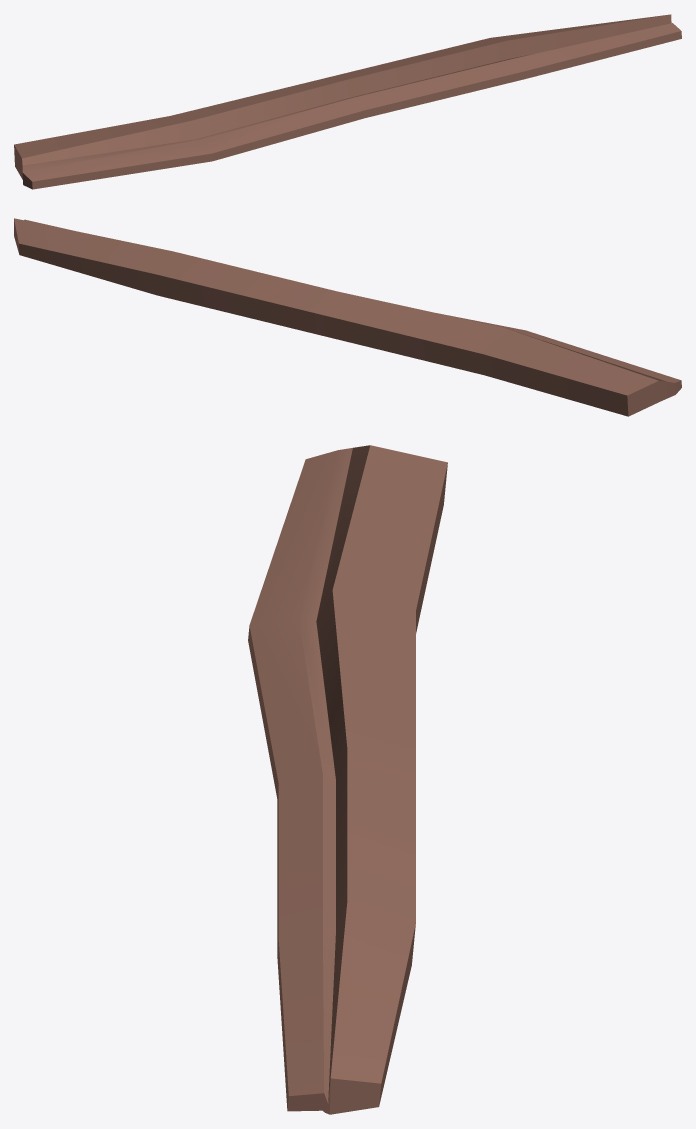
The model's file is SM_Wooden_Plank_Railing_07.fbx.
The picture shows the model from 3 angles, top to bottom: view 1: azimuth 30°, elevation 25°; view 2: azimuth 150°, elevation 25°; view 3: azimuth 270°, elevation 25°; orthographic projection. The views are drawn at different scales.
Visible parts, largest first — view 1: Wooden_Plank_Railing_07; view 2: Wooden_Plank_Railing_07; view 3: Wooden_Plank_Railing_07.
Boxes of the visible parts, left/top/right/bottom form: Wooden_Plank_Railing_07: left=14, top=14, right=681, bottom=189; Wooden_Plank_Railing_07: left=14, top=218, right=681, bottom=416; Wooden_Plank_Railing_07: left=248, top=445, right=447, bottom=1114.
Size of the model in its own units: 120 by 5.86 by 16.06.
